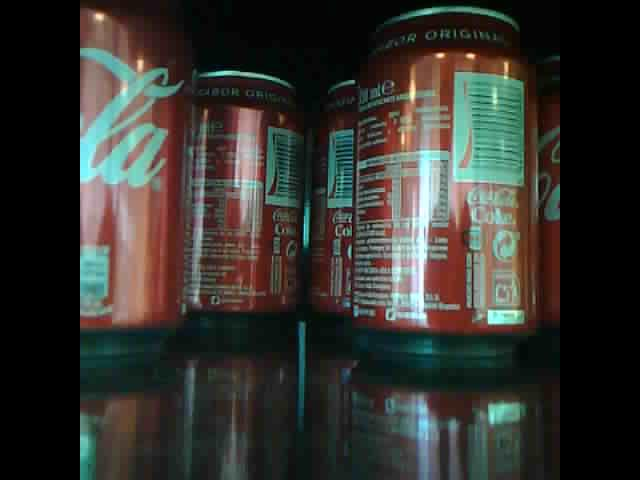coca cola: (352, 7, 539, 351), (78, 5, 194, 362), (191, 62, 302, 319), (305, 66, 359, 325), (534, 59, 560, 334)
